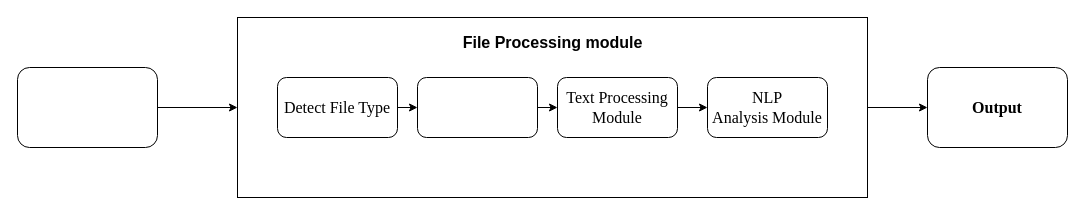
This 1085x215 diagram has some shape labels left out. The shapes that lost their labels are listed below. From the top down, each one's centre as x and y in pixels, then its label:
At pixel 87 107: "Input Files".
At pixel 477 107: "OCR Processing Module".
